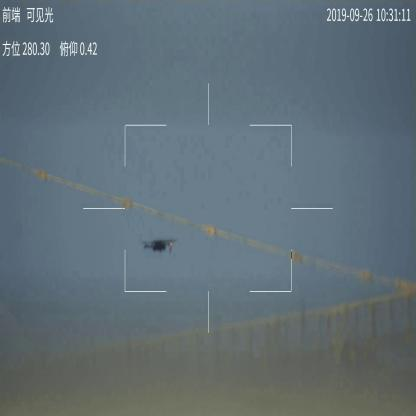uav: (136, 237, 177, 254)
